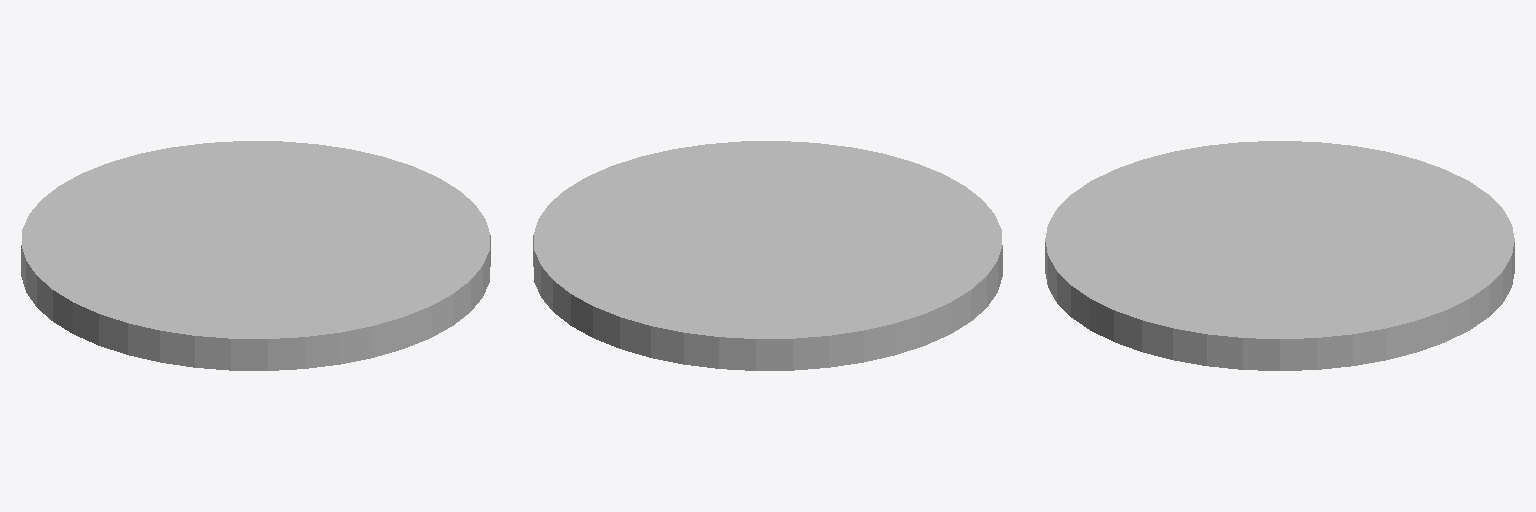
The model's file is target.obj.
3 renders of one model, left to right at view 1: azimuth 30°, elevation 25°; view 2: azimuth 150°, elevation 25°; view 3: azimuth 270°, elevation 25°, orthographic.
Visible parts, largest first — view 1: Cylinder; view 2: Cylinder; view 3: Cylinder.
Boxes of the visible parts, x1,y1,x2,y2 form: Cylinder: [21, 141, 490, 370]; Cylinder: [533, 141, 1002, 370]; Cylinder: [1045, 141, 1514, 370].
Bounding box in the file's own units: 2 × 0.15 × 2.